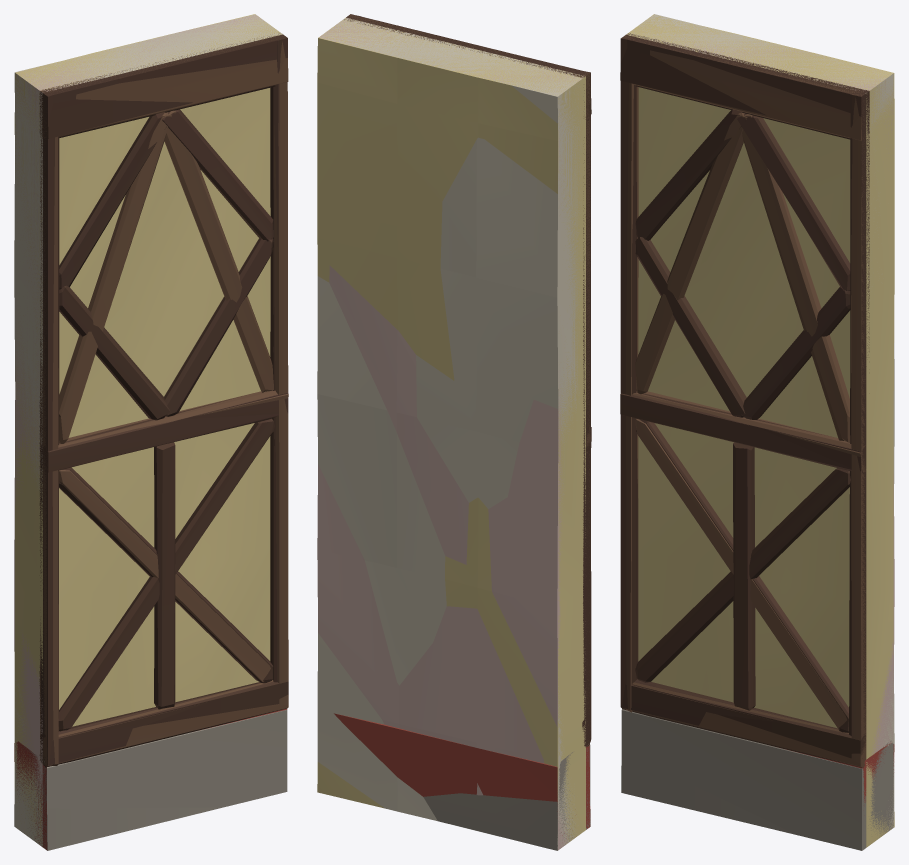
Rendered from wall.timber.glb.
3 views of the same model, side by side, from view 1: azimuth 30°, elevation 25°; view 2: azimuth 150°, elevation 25°; view 3: azimuth 330°, elevation 25° (orthographic).
Visible parts, largest first — view 1: wall.timber.v1.mesh, wall.timber.v2.mesh, wall.timber.v0.mesh; view 2: wall.timber.v0.mesh, wall.timber.v1.mesh, wall.timber.v2.mesh; view 3: wall.timber.v1.mesh, wall.timber.v2.mesh, wall.timber.v0.mesh.
Boxes of the visible parts, x1,y1,x2,y2 form: wall.timber.v1.mesh: (14,14,288,850); wall.timber.v2.mesh: (14,14,288,848); wall.timber.v0.mesh: (14,14,288,850); wall.timber.v0.mesh: (317,14,591,848); wall.timber.v1.mesh: (317,14,590,843); wall.timber.v2.mesh: (317,14,591,850); wall.timber.v1.mesh: (621,14,894,847); wall.timber.v2.mesh: (620,17,894,850); wall.timber.v0.mesh: (620,14,894,850).
Bounding box in the file's own units: 0.9999 × 3 × 0.2468.
